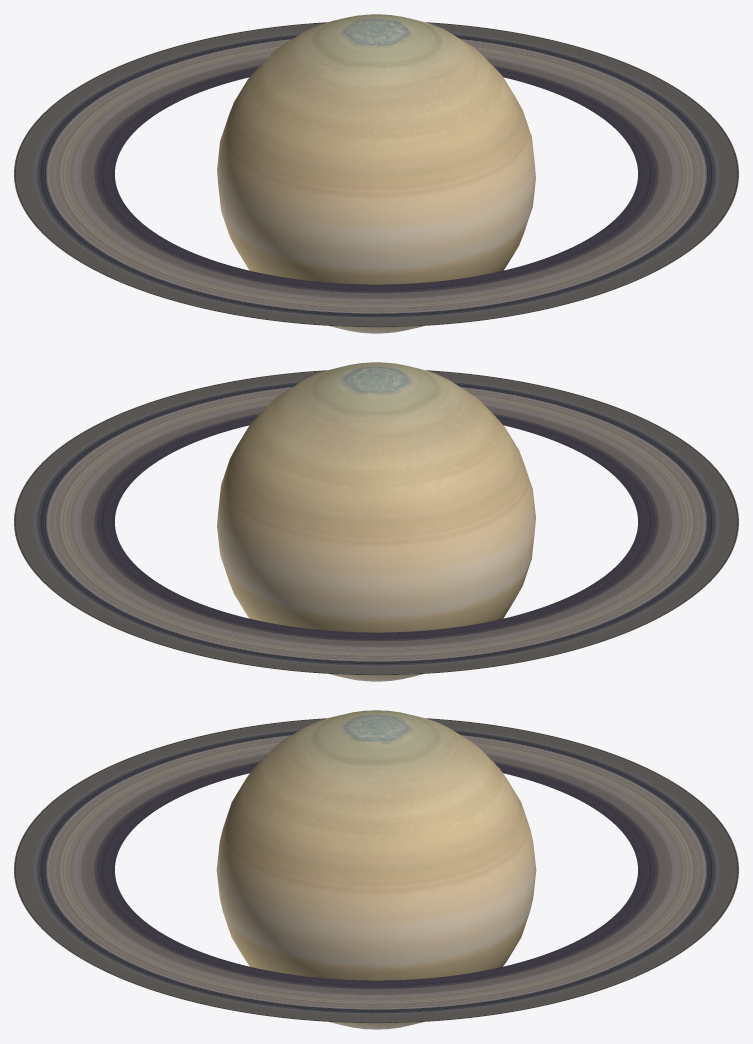
The model's file is saturno.glb.
3 views of the same model, one above another, from view 1: azimuth 30°, elevation 25°; view 2: azimuth 150°, elevation 25°; view 3: azimuth 270°, elevation 25° (orthographic).
Parts seen in each view (by area): view 1: Círculo, Esfera.001; view 2: Círculo, Esfera.001; view 3: Círculo, Esfera.001.
Boxes of the visible parts, bbox=[...] form: Círculo: bbox=[14, 22, 738, 327]; Esfera.001: bbox=[217, 14, 535, 333]; Círculo: bbox=[14, 370, 738, 675]; Esfera.001: bbox=[217, 362, 535, 681]; Círculo: bbox=[14, 718, 738, 1023]; Esfera.001: bbox=[216, 710, 536, 1029].
Size of the model in its own units: 3.53 by 1.56 by 3.53.
Materials: 2 (2 with a texture image).
